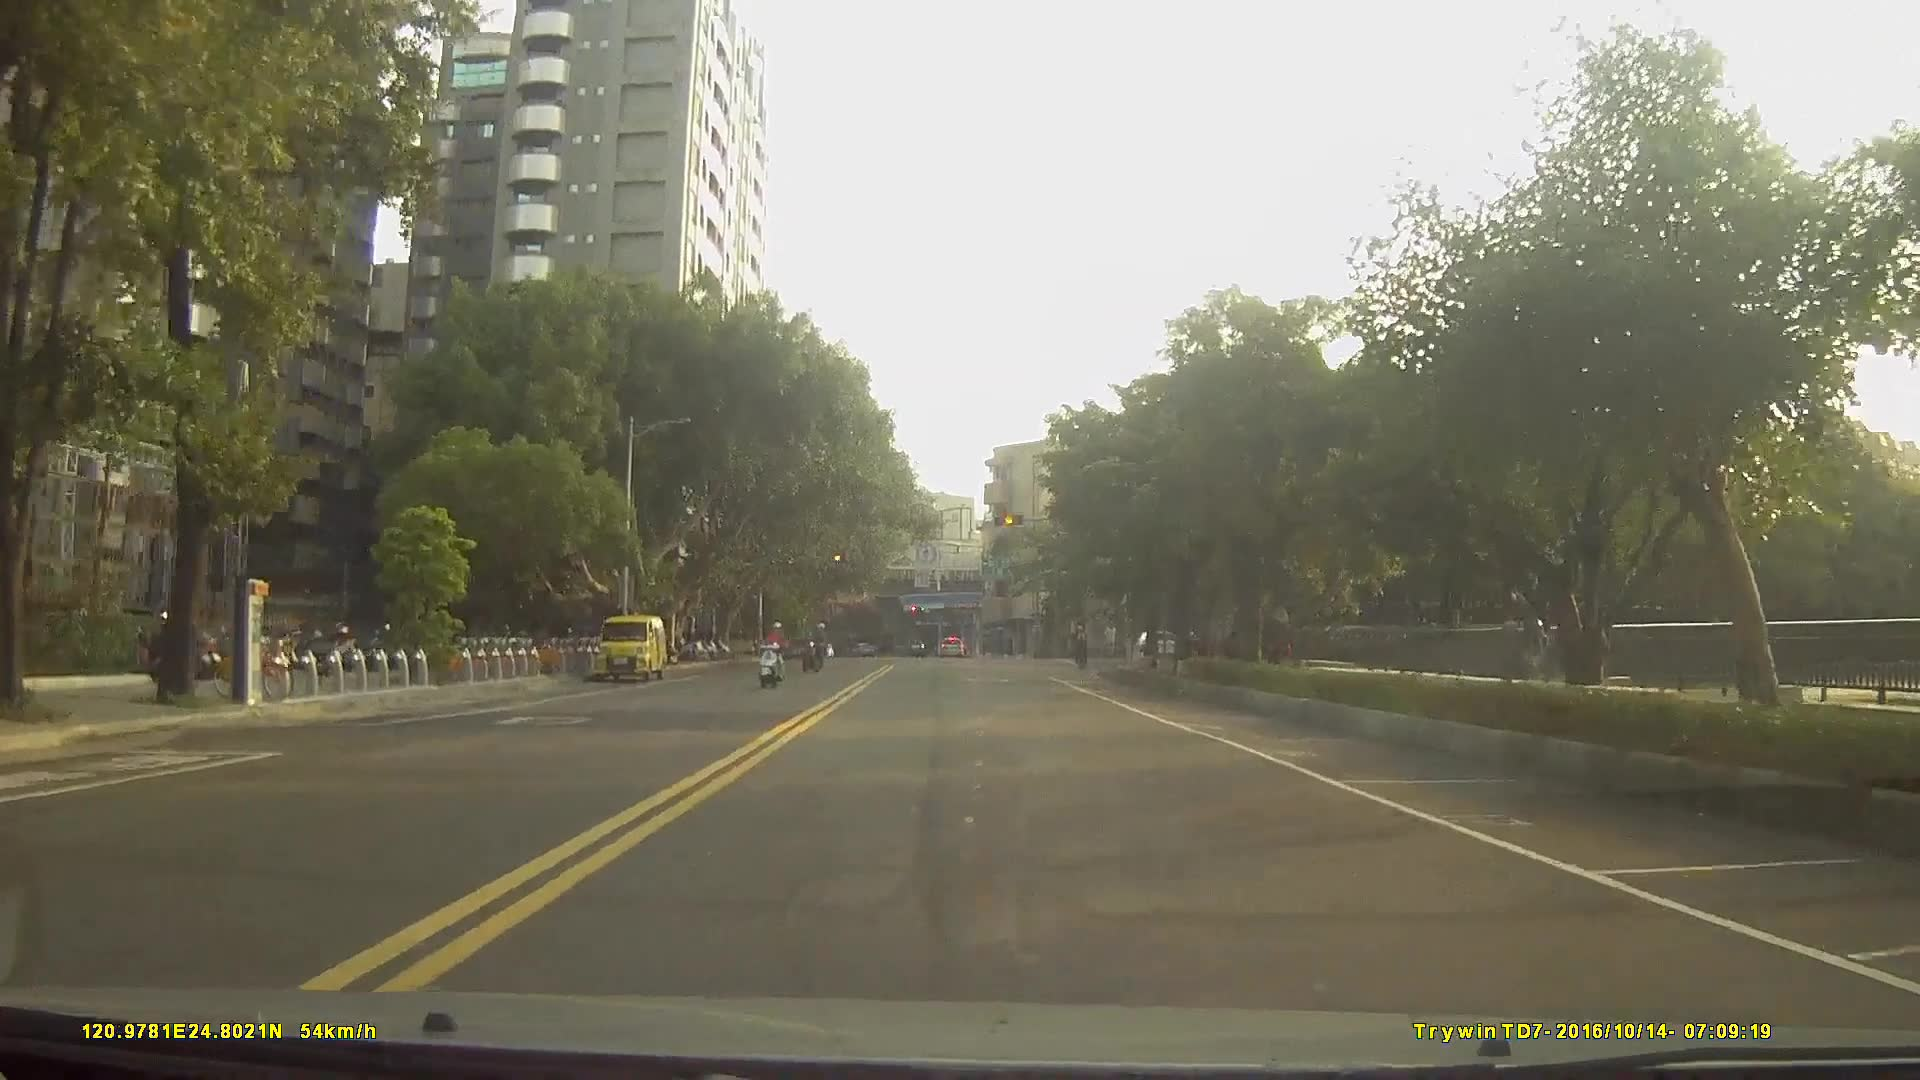pedestrian: (1101, 620, 1121, 659)
rider: (756, 614, 795, 684), (801, 617, 831, 673), (1071, 620, 1092, 668)
vehicle: (935, 630, 965, 656)
